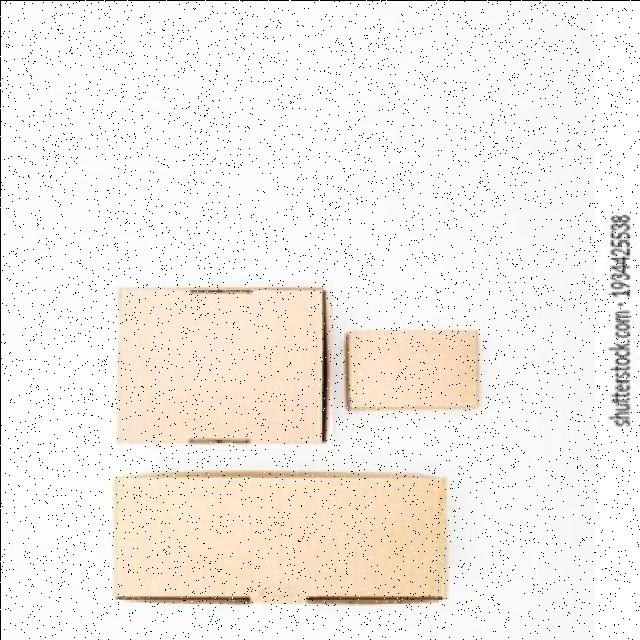normal: (98, 464, 456, 604), (110, 280, 332, 448)
